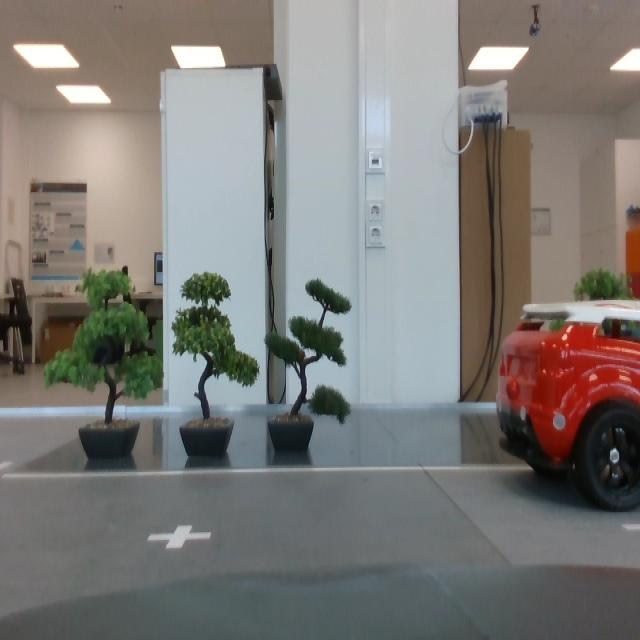car: (496, 298, 640, 513)
potted plant: (45, 268, 164, 456), (171, 271, 262, 458), (264, 277, 353, 452), (551, 273, 637, 417)
